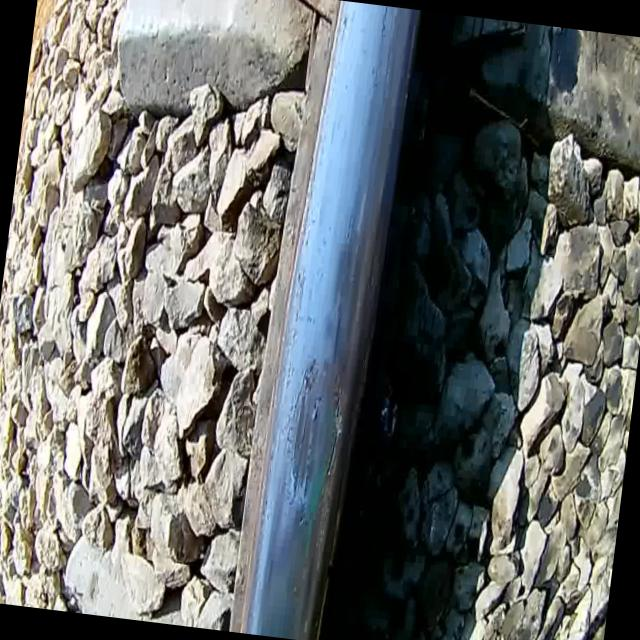Cracks: (319, 366, 350, 485)
Squats: (277, 352, 334, 505)
